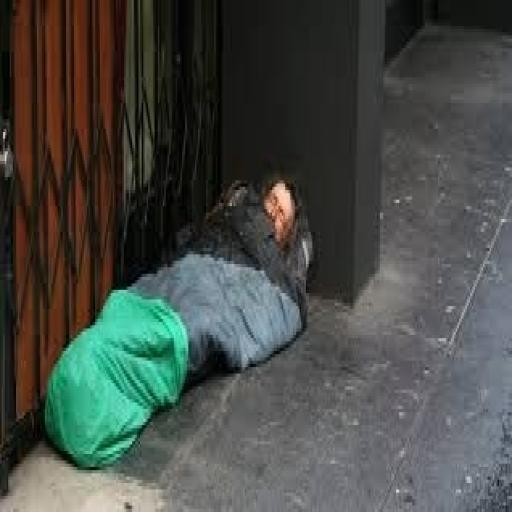sleeping: (40, 158, 316, 470)
